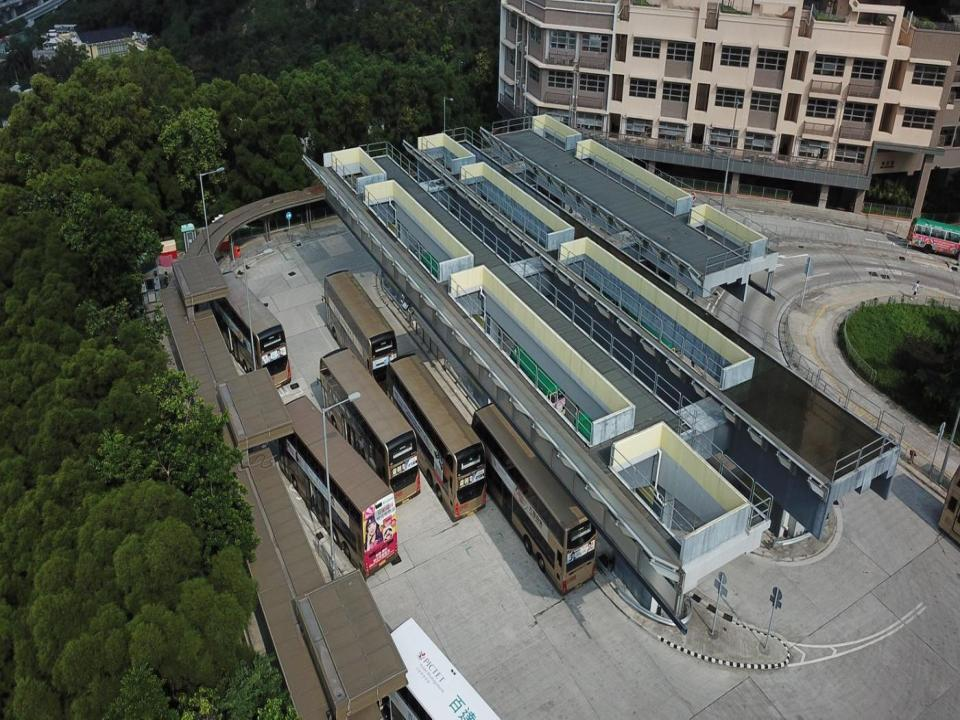bus: (466, 401, 598, 597), (272, 393, 398, 579), (385, 351, 487, 521), (316, 345, 422, 508), (371, 616, 503, 719), (320, 269, 400, 402), (207, 270, 292, 391), (905, 216, 960, 260)
